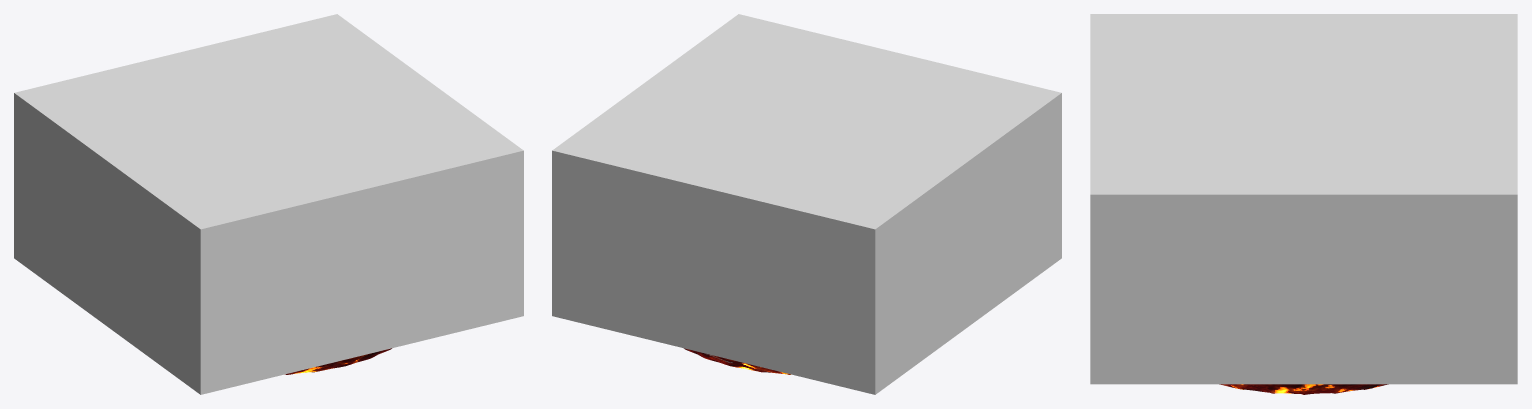
File: Hell arena.fbx
3 renders of one model, left to right at view 1: azimuth 30°, elevation 25°; view 2: azimuth 150°, elevation 25°; view 3: azimuth 270°, elevation 25°, orthographic. The views are drawn at different scales.
Visible parts, largest first — view 1: Cube, Circle.001; view 2: Cube, Circle.001; view 3: Cube, Circle.001.
Boxes of the visible parts, x1=… form: Cube: x1=14, y1=14, x2=523, y2=394; Circle.001: x1=285, y1=348, x2=391, y2=374; Cube: x1=552, y1=14, x2=1061, y2=394; Circle.001: x1=684, y1=348, x2=790, y2=374; Cube: x1=1090, y1=14, x2=1517, y2=384; Circle.001: x1=1219, y1=384, x2=1388, y2=394.
Bounding box in the file's own units: 511 × 321 × 511.
